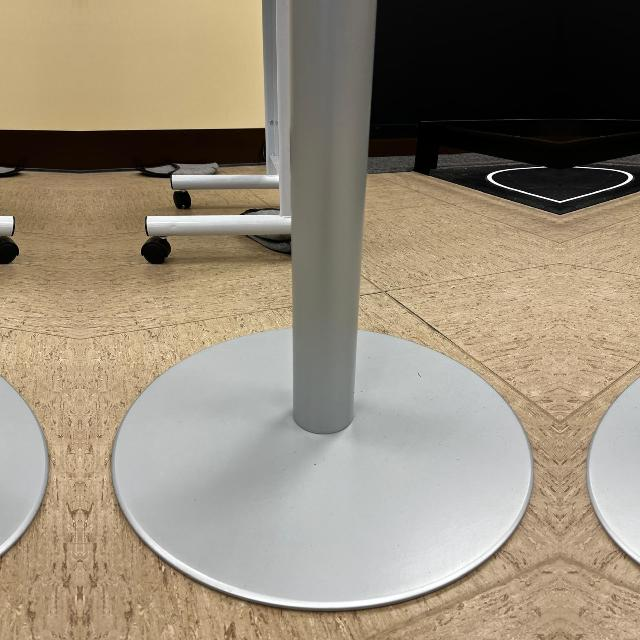obstacle: (101, 331, 559, 615), (561, 331, 640, 615), (0, 331, 59, 615), (139, 167, 291, 265), (0, 167, 21, 265)
